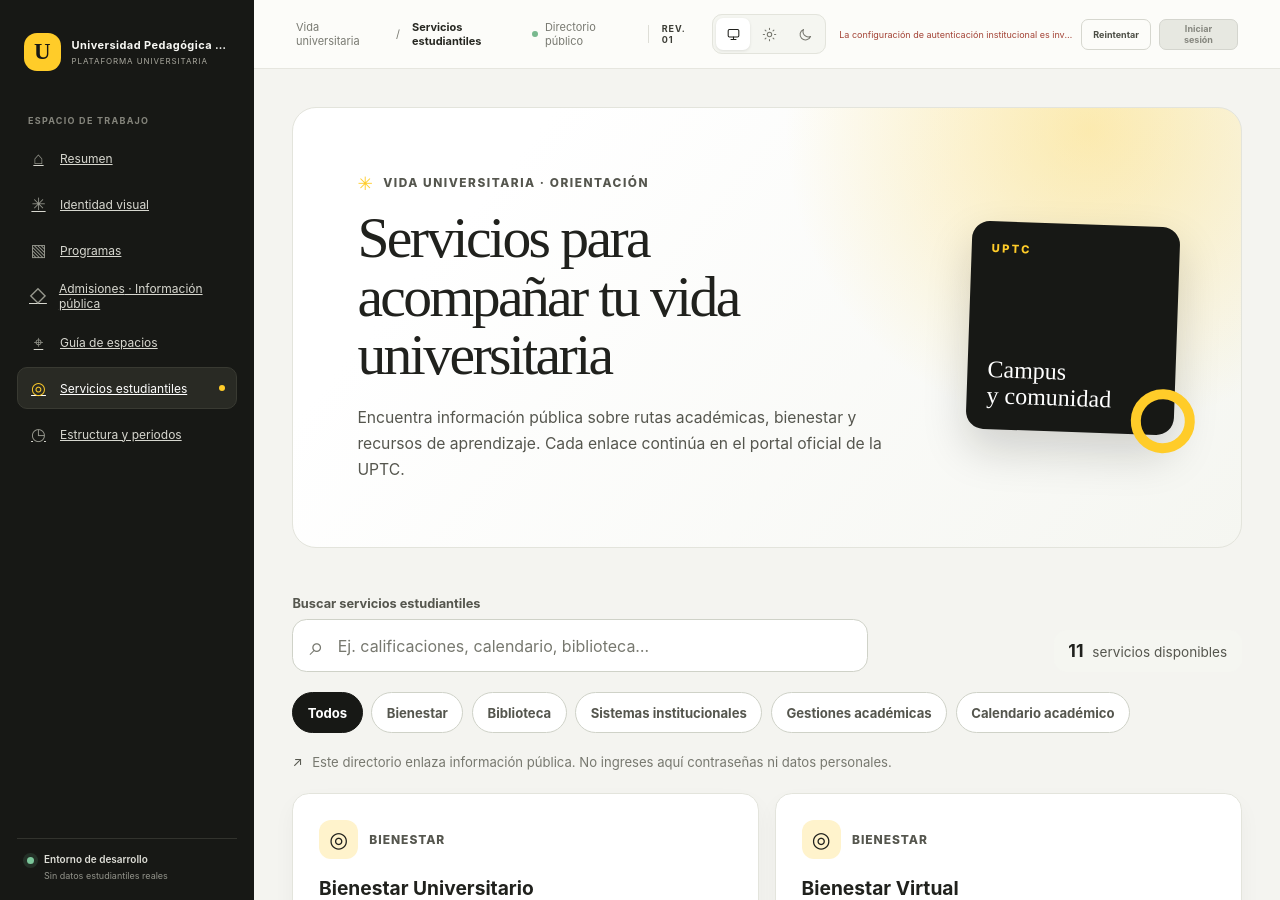
Test: StudentServicesPage › filters institutional systems by category and accent-insensitive text
The width and height of the screenshot is (1280, 900).
Expected: the heading "Servicios para acompañar tu vida universitaria" is shown, [357,206,739,386]
Click the button "Sistemas institucionales". click: [669, 713]
box: [575,692,762,733]
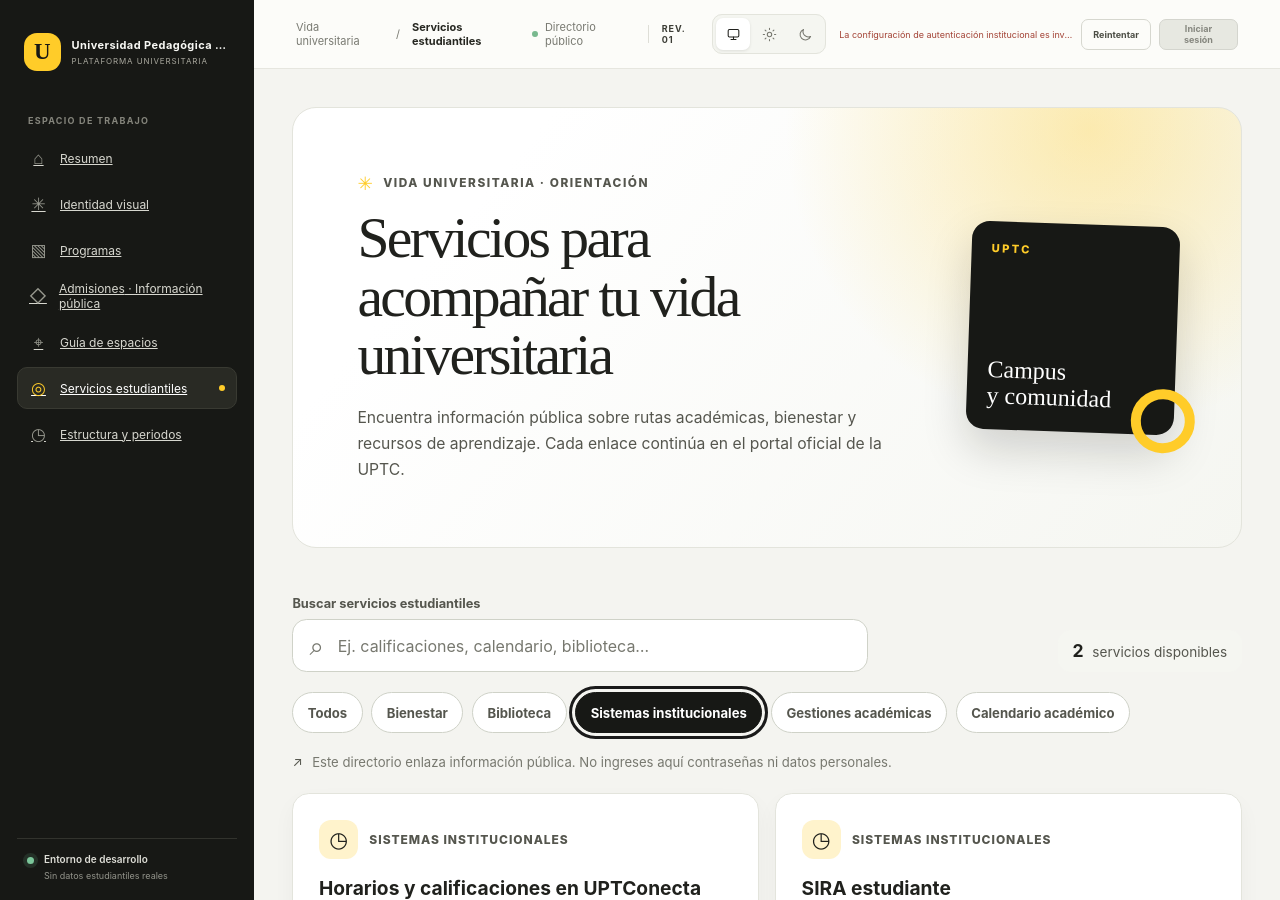
Type "CALIFICACIONES" into the search field labelled "Buscar servicios estudiantiles". click: [594, 646]
box: [336,620,851,671]
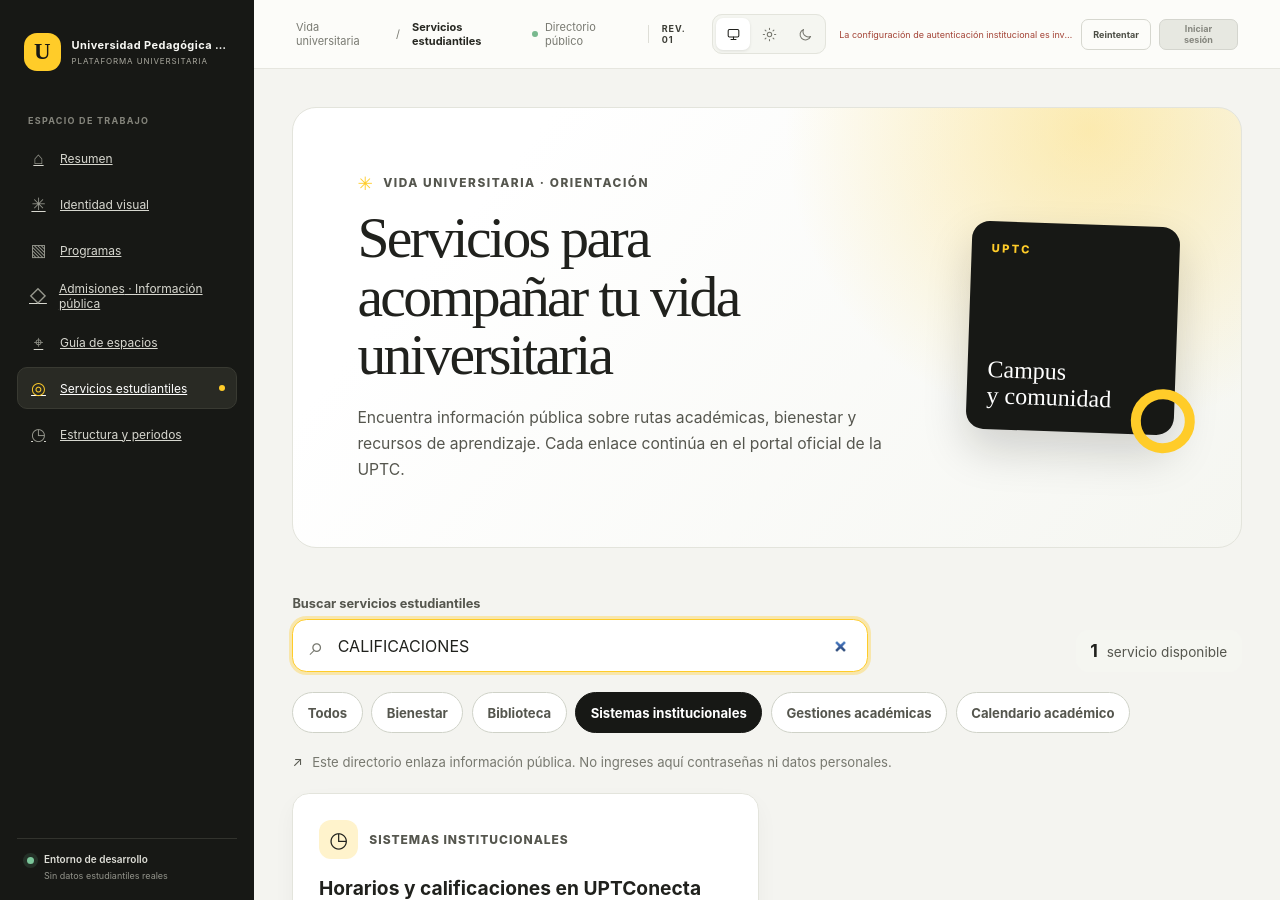
Expected: the heading "Horarios y calificaciones en UPTConecta" is shown, [319,876,732,899]
Expected: the heading "SIRA estudiante" is gone
